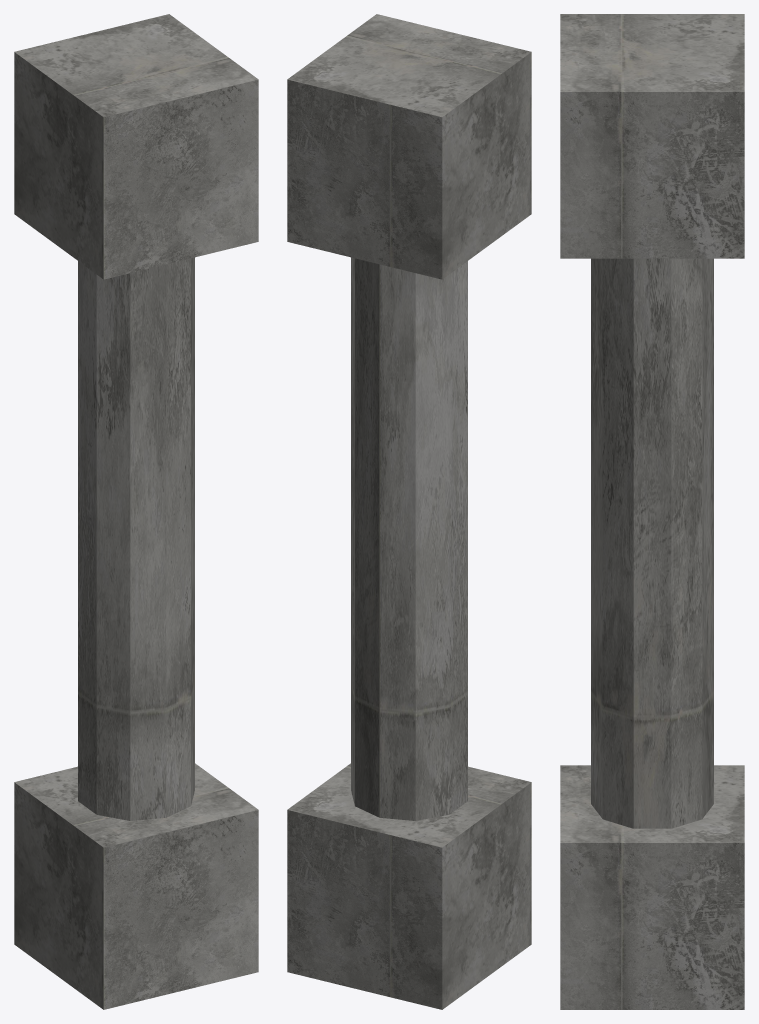
Rendered from Pillar.glb.
3 views of the same model, side by side, from view 1: azimuth 30°, elevation 25°; view 2: azimuth 150°, elevation 25°; view 3: azimuth 270°, elevation 25° (orthographic). The views are drawn at different scales.
Visible parts, largest first — view 1: Cylinder, Cube.001, Cube; view 2: Cylinder, Cube.001, Cube; view 3: Cylinder, Cube.001, Cube.
Part boxes in pixels (x1=…): Cylinder: x1=78, y1=257, x2=194, y2=820; Cube.001: x1=14, y1=14, x2=258, y2=279; Cube: x1=14, y1=763, x2=258, y2=1009; Cylinder: x1=351, y1=257, x2=467, y2=820; Cube.001: x1=287, y1=14, x2=531, y2=279; Cube: x1=287, y1=763, x2=531, y2=1009; Cylinder: x1=591, y1=258, x2=713, y2=828; Cube.001: x1=560, y1=14, x2=744, y2=258; Cube: x1=560, y1=765, x2=744, y2=1009.
Size of the model in its own units: 3 by 16.5 by 3.
Materials: 1 (1 with a texture image).
